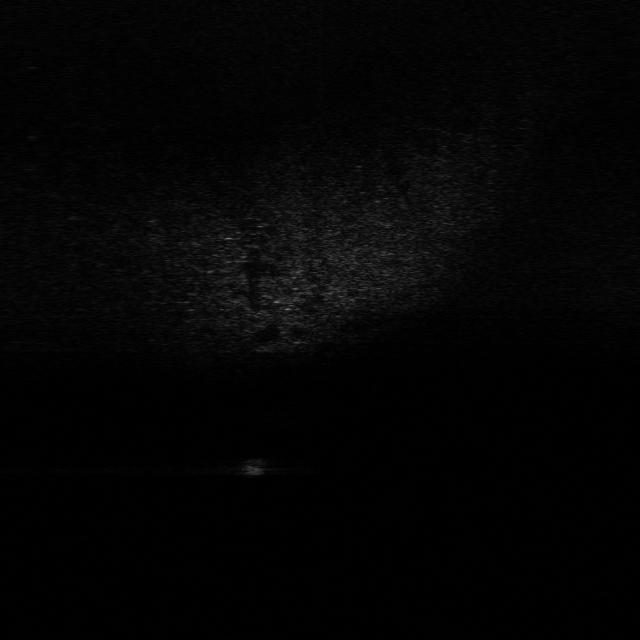cylinder: (242, 454, 270, 478)
